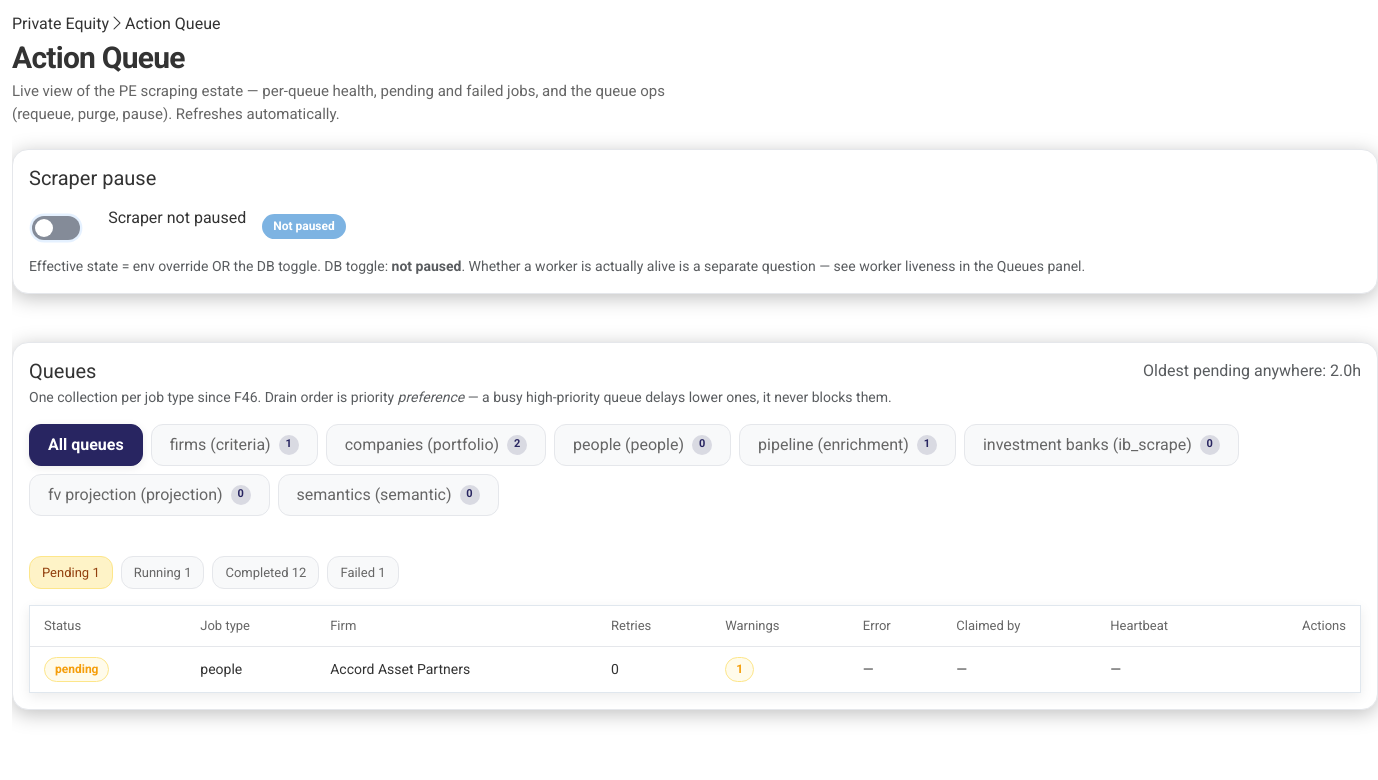
Test: PEActionQueuePage › renders the fleet queue fixtures behind the status filter
Expected: the button "Pending 1" is shown, [29,556,113,589]
Click the button "Running 1" at (163, 572), box [121,556,204,589]
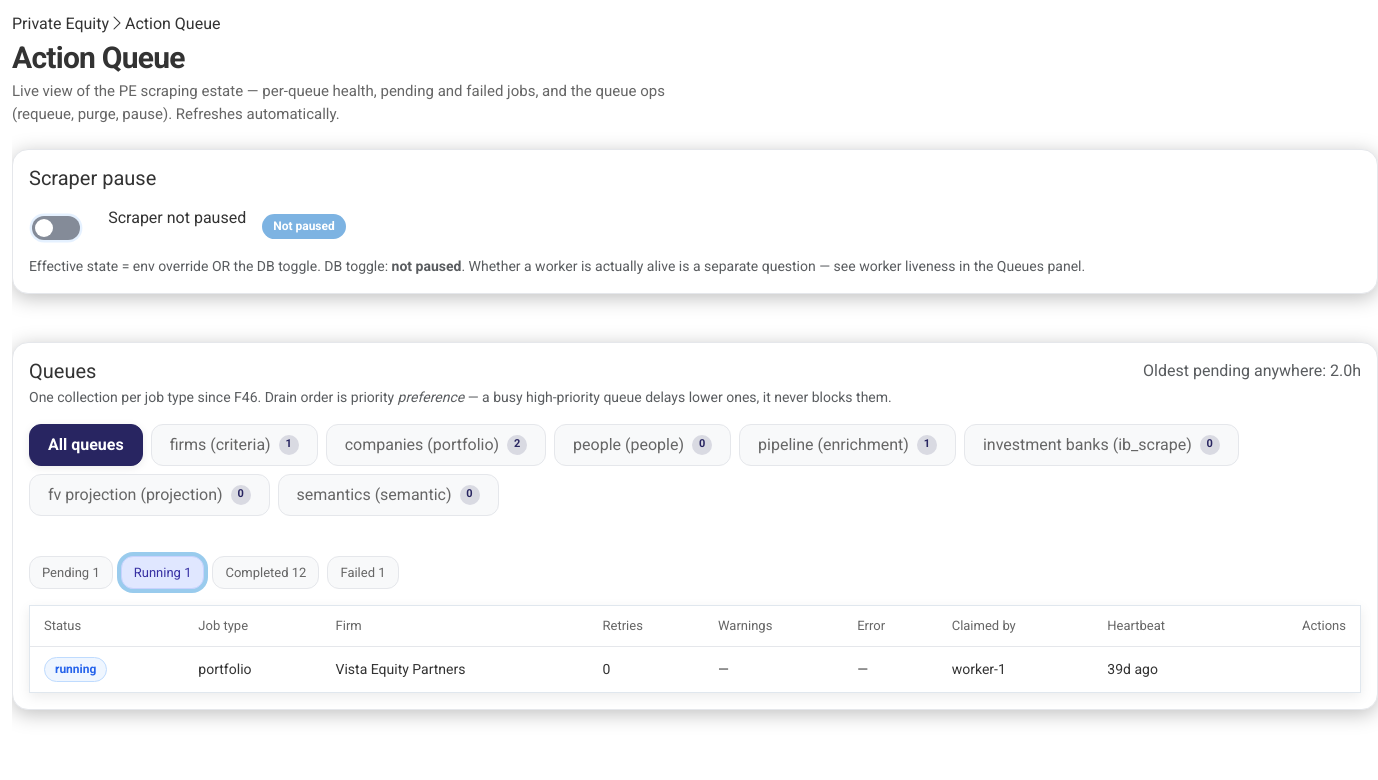
Now the text "worker-1" is shown, box [938,647,1093,692]
